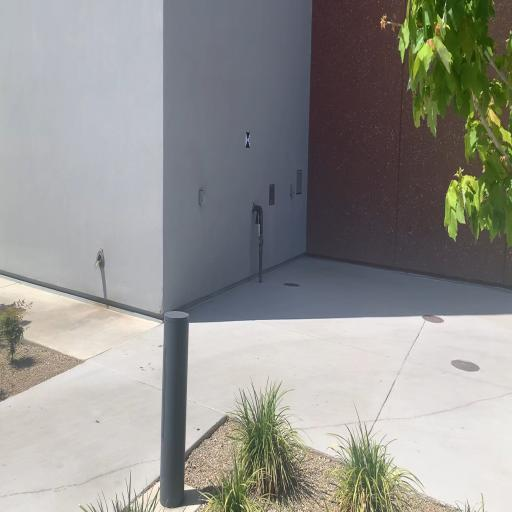target3: (245, 131, 250, 149)
